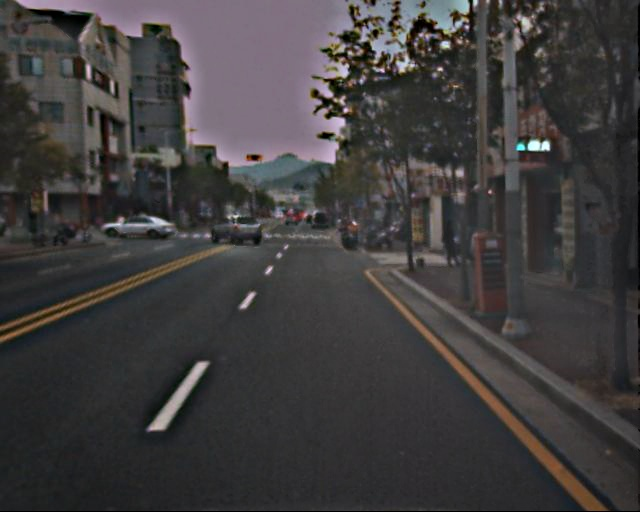person: (441, 218, 462, 268)
